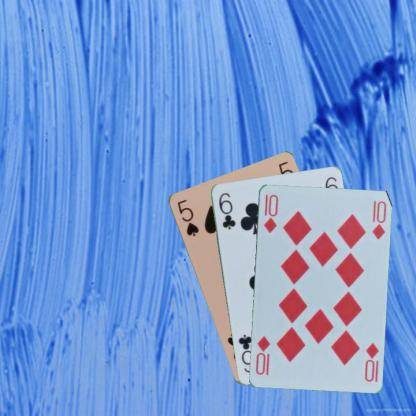10d: (261, 192, 279, 234), (362, 340, 380, 382)
5s: (174, 197, 200, 238)
6c: (215, 190, 237, 230)
